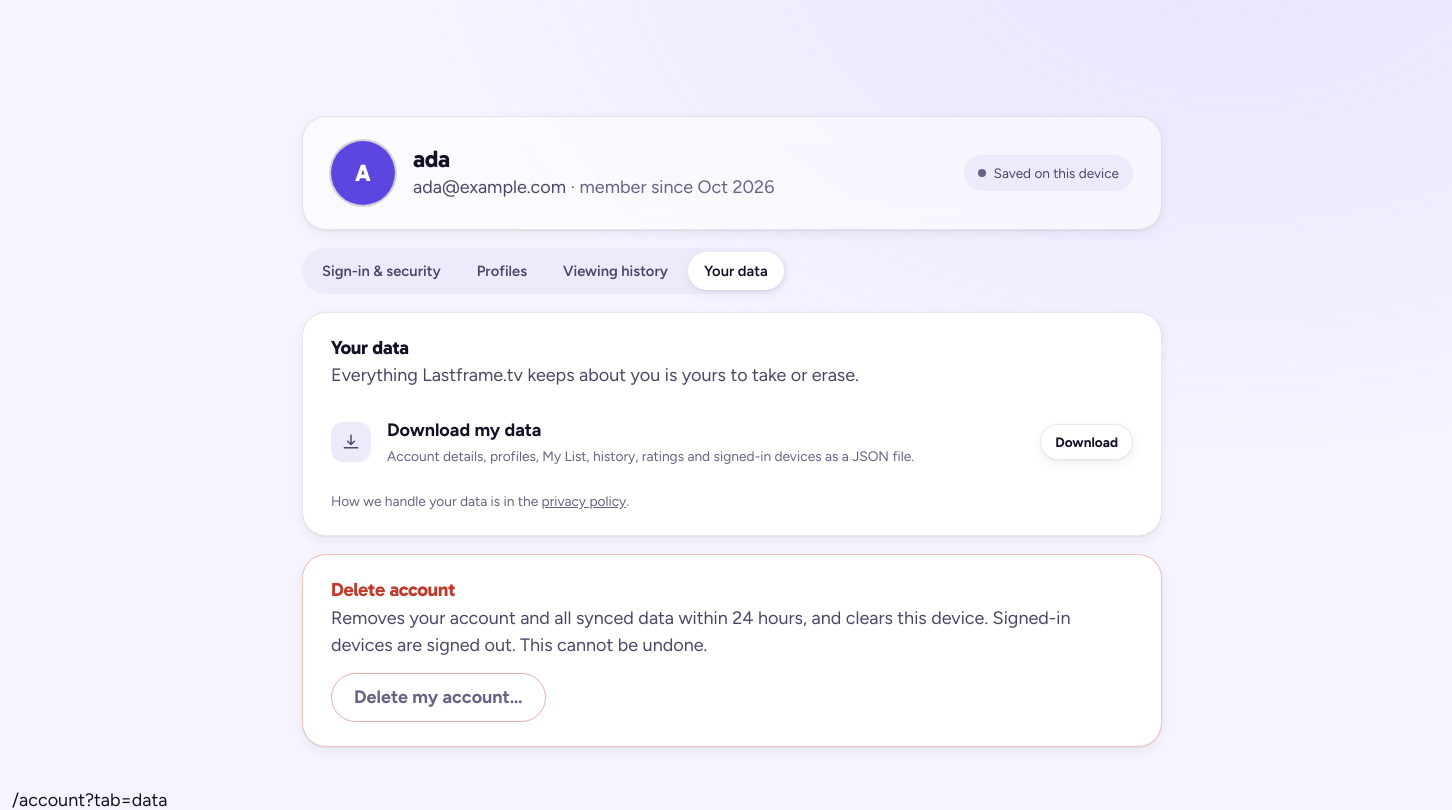
Test: AccountPage: download my data › exports this device’s copy when there is no cloud copy, even when signed in
Click the button "Download" at point(1087, 442), box [1040,424,1133,460]
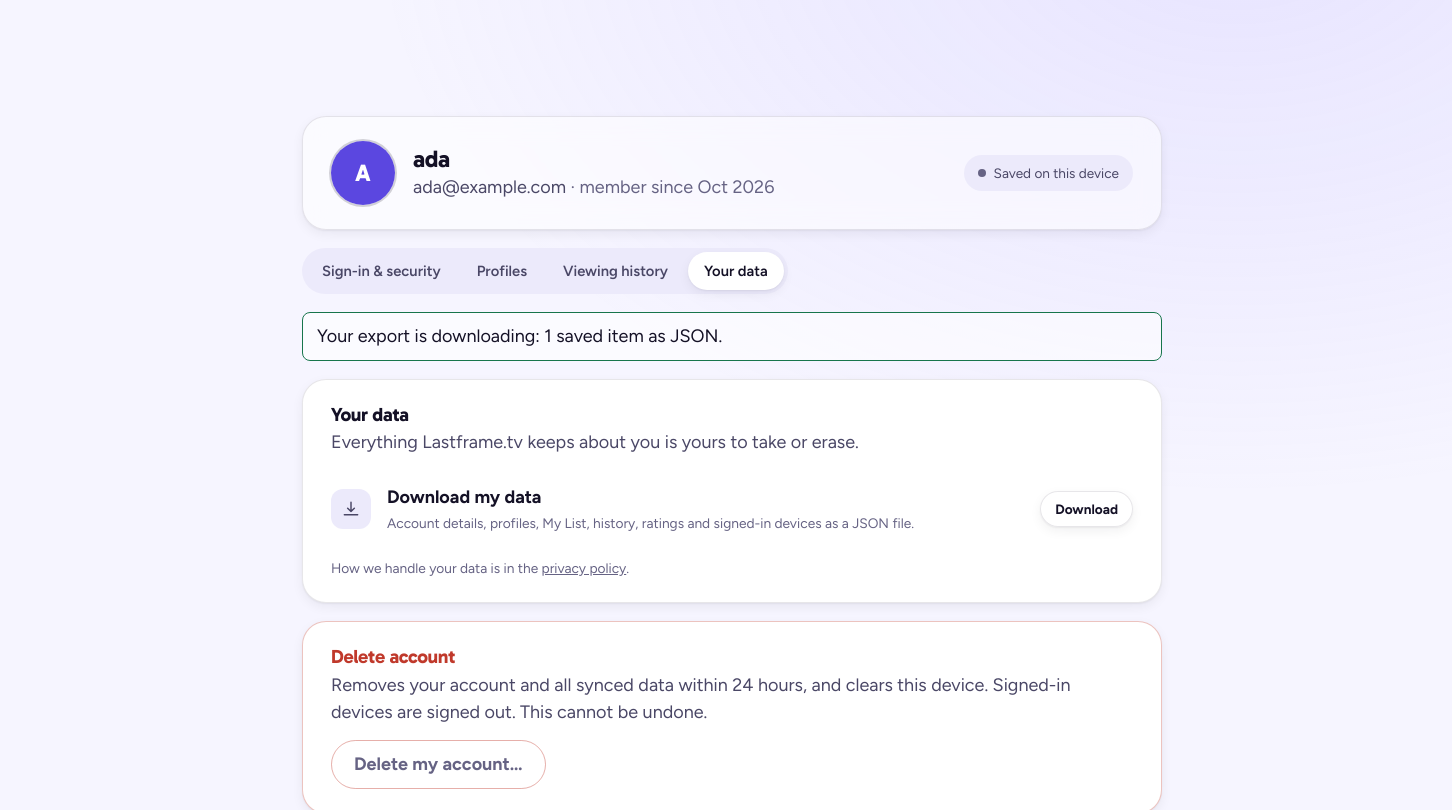
Check: the message reads "Your export is downloading: 1 saved item as JSON.", box [317,325,722,347]
